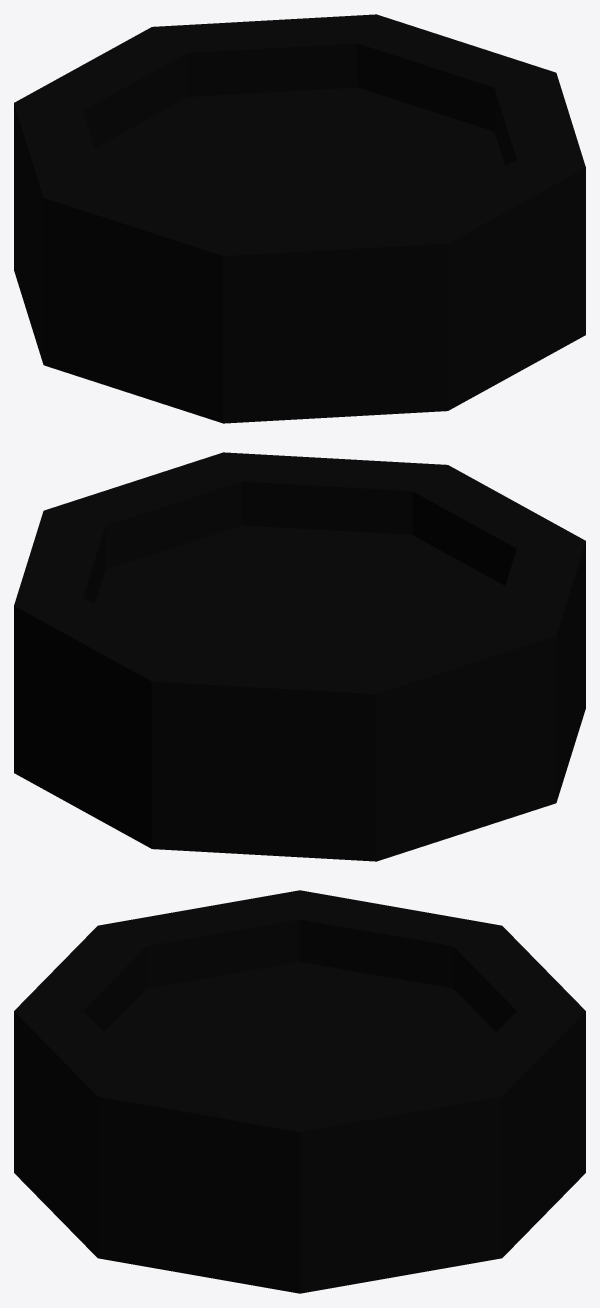
The model's file is Coin_Gold.fbx.
3 renders of one model, top to bottom at view 1: azimuth 30°, elevation 25°; view 2: azimuth 150°, elevation 25°; view 3: azimuth 270°, elevation 25°, orthographic. The views are drawn at different scales.
Visible parts, largest first — view 1: Coin_Gold; view 2: Coin_Gold; view 3: Coin_Gold.
Part boxes in pixels (bbox=[...]): Coin_Gold: bbox=[14, 14, 585, 423]; Coin_Gold: bbox=[14, 452, 585, 861]; Coin_Gold: bbox=[14, 890, 585, 1293].
Size of the model in its own units: 0.0543 by 0.0169 by 0.0543.
